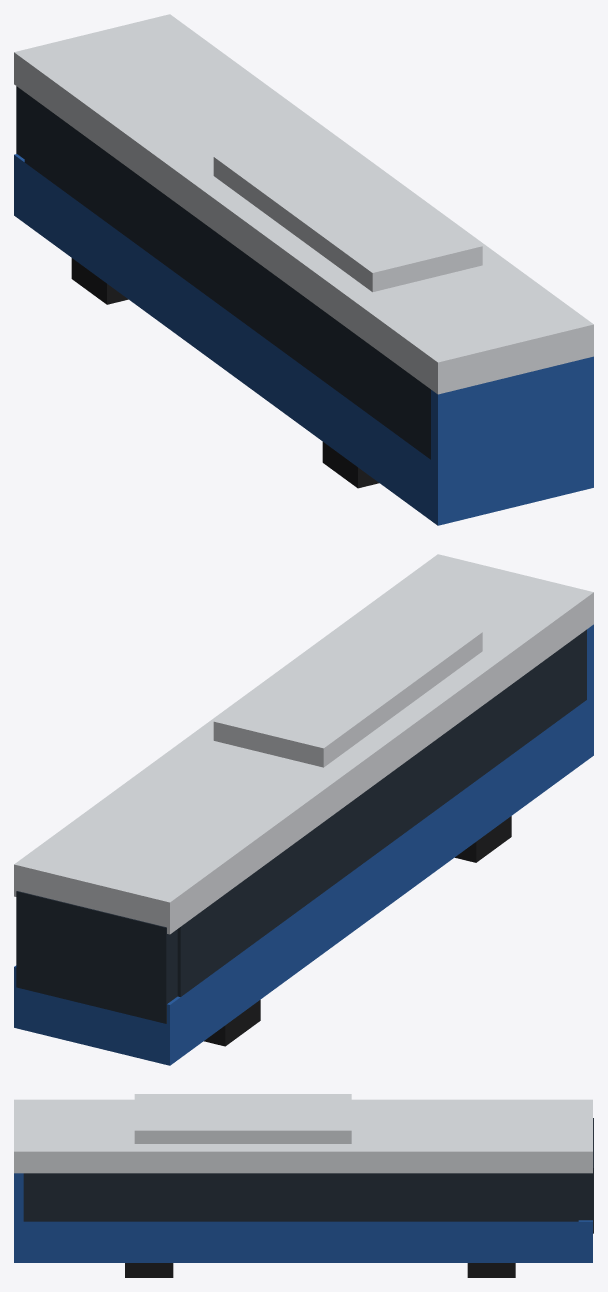
3 views of the same model, one above another, from view 1: azimuth 30°, elevation 25°; view 2: azimuth 150°, elevation 25°; view 3: azimuth 270°, elevation 25° (orthographic). The views are drawn at different scales.
Size of the model in its own units: 2.55 by 3.2 by 12.02.
